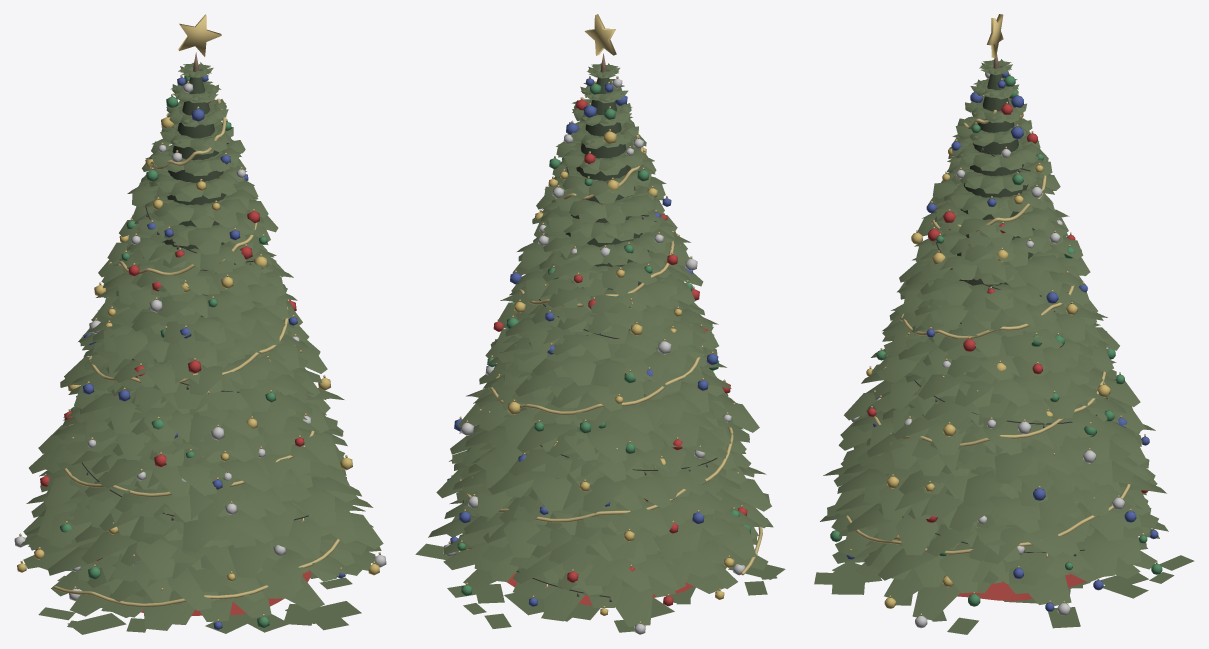
File: xmas_tree.glb
The picture shows the model from 3 angles, left to right: view 1: azimuth 30°, elevation 25°; view 2: azimuth 150°, elevation 25°; view 3: azimuth 270°, elevation 25°; orthographic projection. The views are drawn at different scales.
Visible parts, largest first — view 1: xmas_tree; view 2: xmas_tree; view 3: xmas_tree.
Boxes of the visible parts, box(x1,y1,x2,y2) form: xmas_tree: box(14, 14, 386, 634); xmas_tree: box(415, 14, 785, 634); xmas_tree: box(814, 14, 1194, 634).
Bounding box in the file's own units: 4.11 × 6.66 × 4.22.
